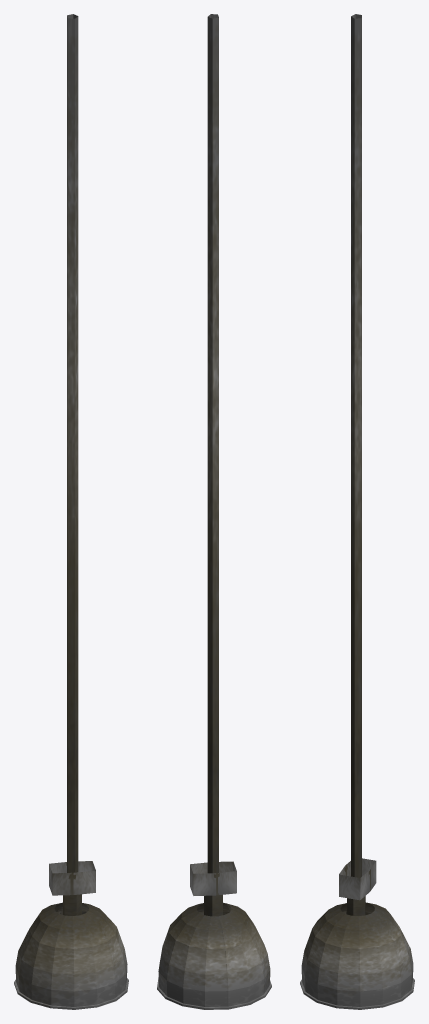
Rendered from Light01.fbx.
The picture shows the model from 3 angles, left to right: view 1: azimuth 30°, elevation 25°; view 2: azimuth 210°, elevation 25°; view 3: azimuth 270°, elevation 25°; orthographic projection.
Parts seen in each view (by area): view 1: Empty_Mesh; view 2: Empty_Mesh; view 3: Empty_Mesh.
Boxes of the visible parts, box(x1,y1,x2,y2) form: Empty_Mesh: box(14, 14, 128, 1009); Empty_Mesh: box(157, 14, 271, 1009); Empty_Mesh: box(300, 14, 414, 1009).
Bounding box in the file's own units: 65.01 × 606 × 65.07.
